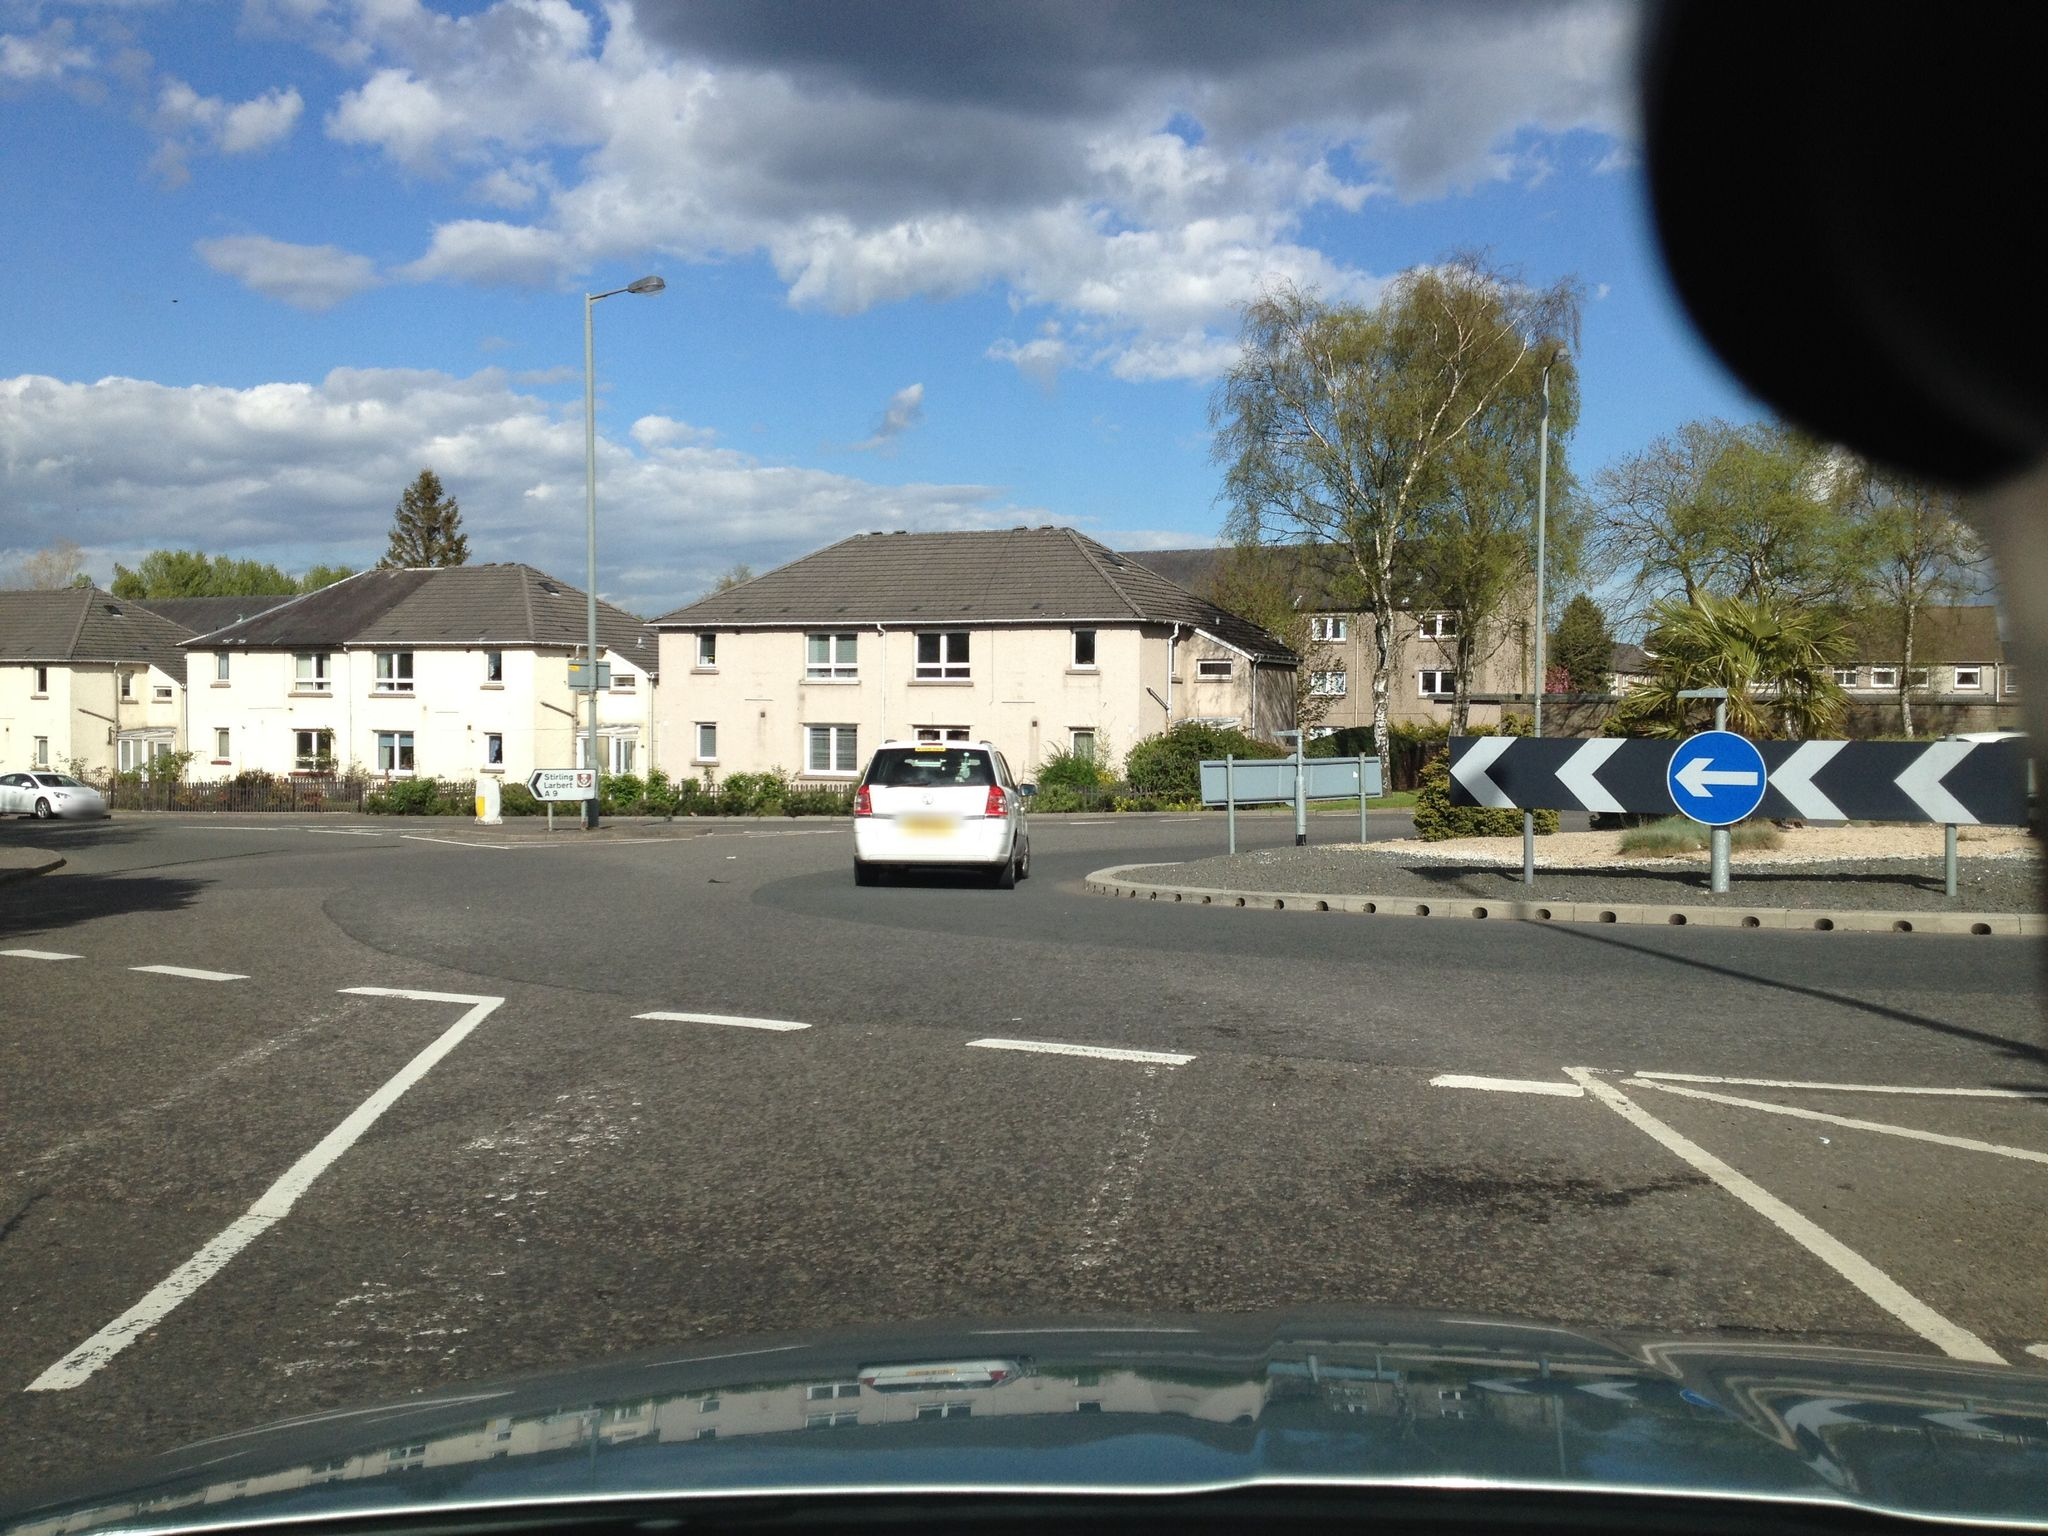car: (853, 737, 1037, 892), (0, 770, 106, 820)
